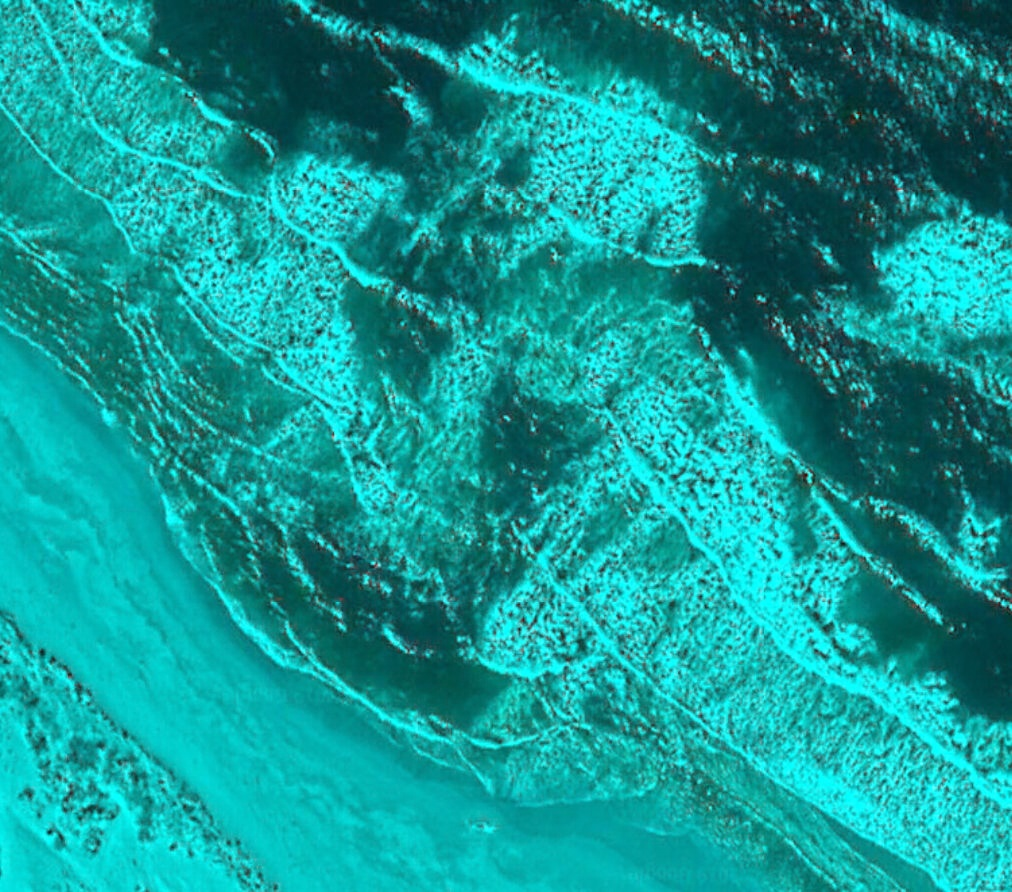rip_current: (338, 109, 673, 757)
